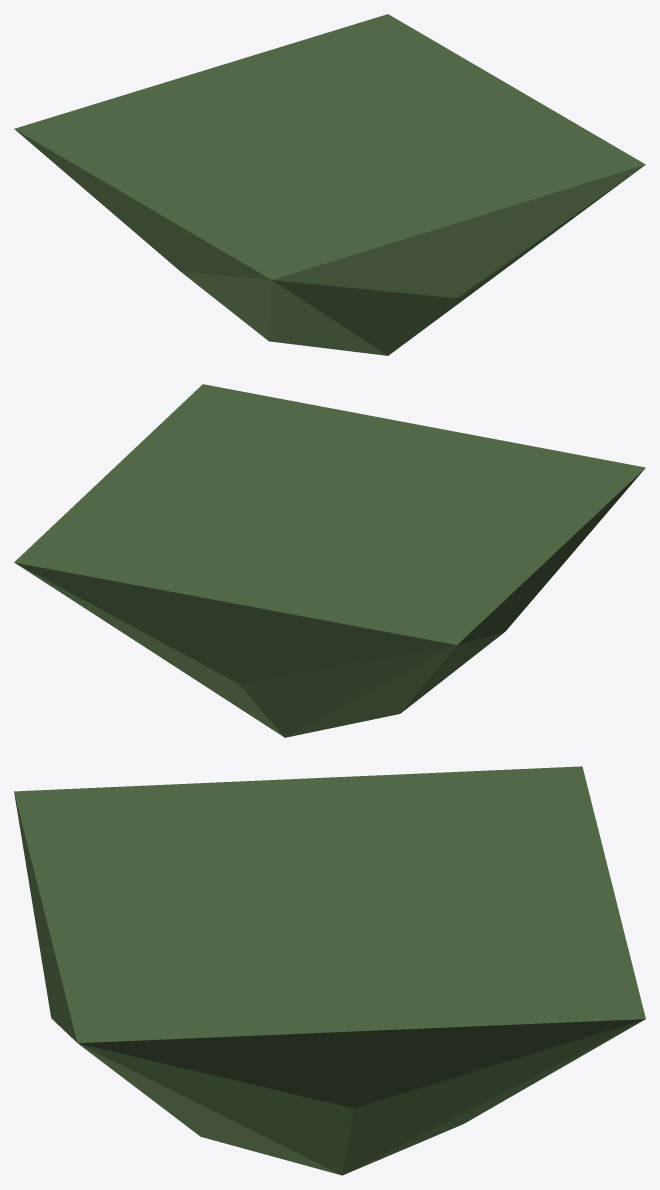
File: CactusFlower_1.lod4.glb
The picture shows the model from 3 angles, top to bottom: view 1: azimuth 30°, elevation 25°; view 2: azimuth 150°, elevation 25°; view 3: azimuth 270°, elevation 25°; orthographic projection. The views are drawn at different scales.
Parts seen in each view (by area): view 1: CactusFlower_1; view 2: CactusFlower_1; view 3: CactusFlower_1.
Part boxes in pixels (box(x1,y1,x2,y2)): CactusFlower_1: box(14, 14, 645, 355); CactusFlower_1: box(14, 384, 645, 737); CactusFlower_1: box(14, 766, 645, 1175).
Size of the model in its own units: 0.8861 by 0.3501 by 0.8549.
